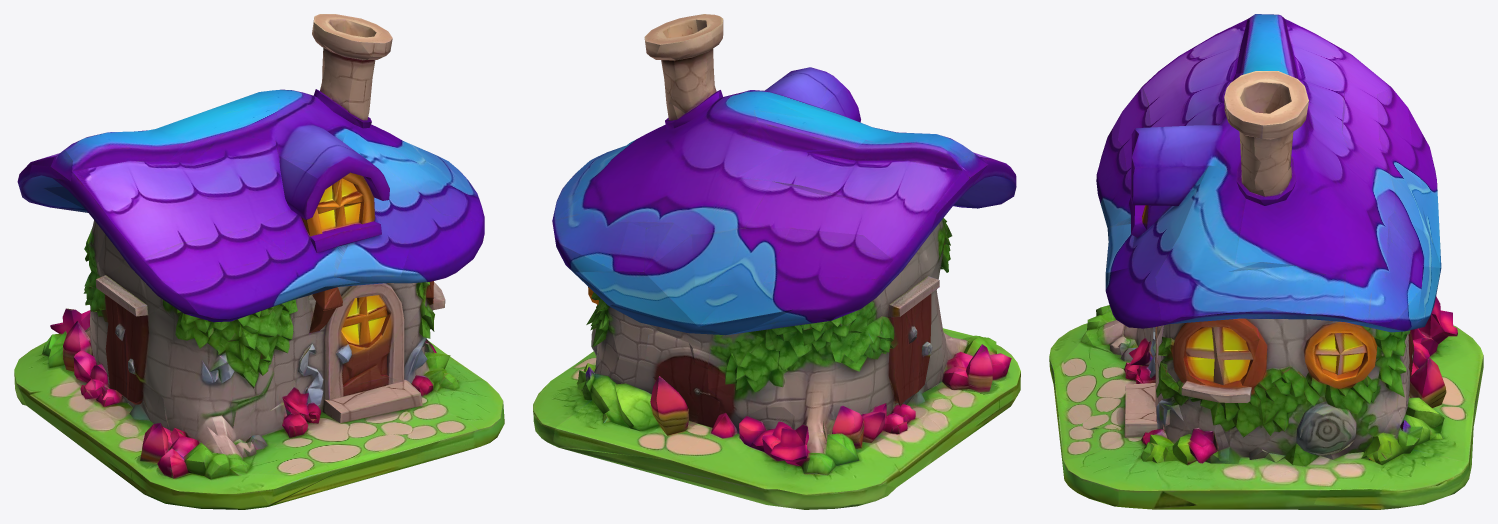
The model's file is home2.glb.
3 renders of one model, left to right at view 1: azimuth 30°, elevation 25°; view 2: azimuth 150°, elevation 25°; view 3: azimuth 270°, elevation 25°, orthographic. The views are drawn at different scales.
Bounding box in the file's own units: 1.9 × 1.71 × 1.76.
Materials: 1 (1 with a texture image).
